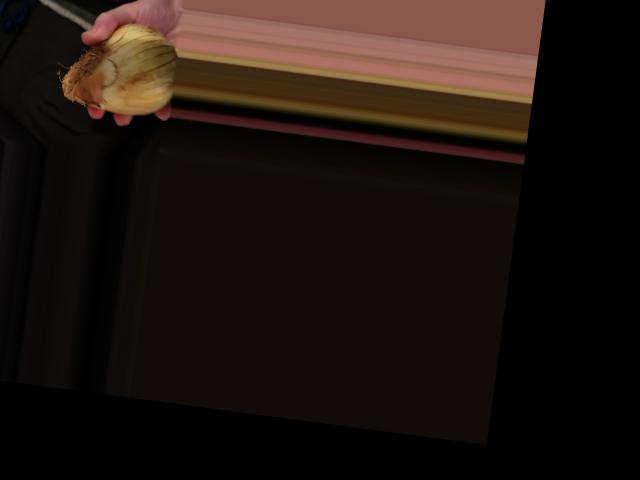onion: (56, 16, 175, 120)
